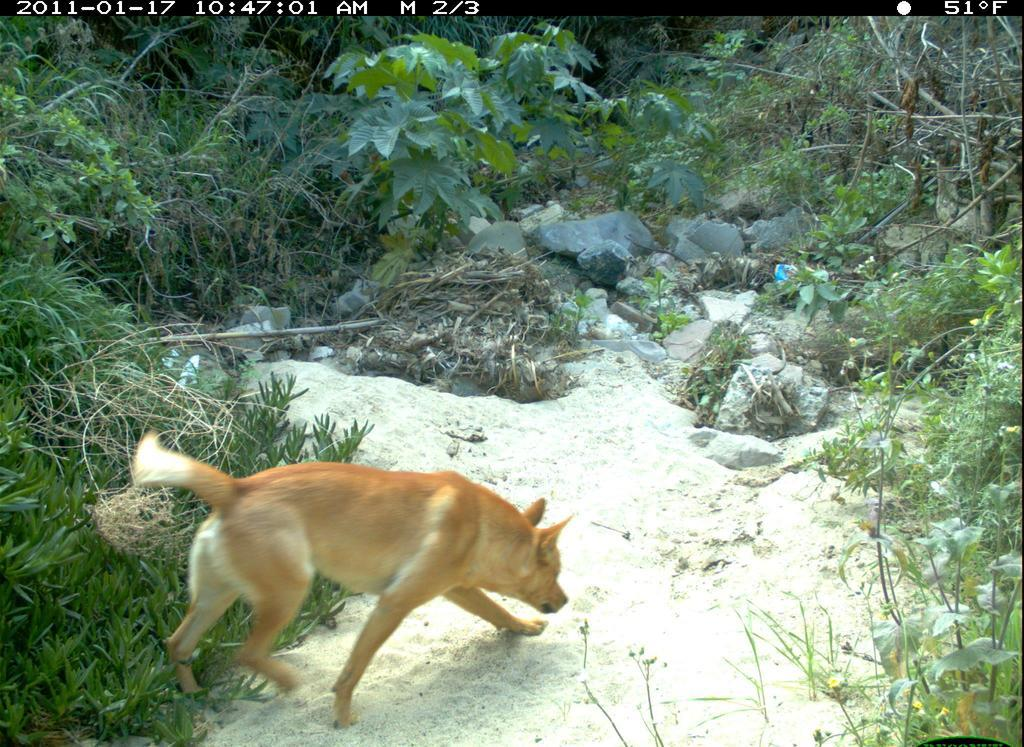dog: (112, 419, 603, 740)
